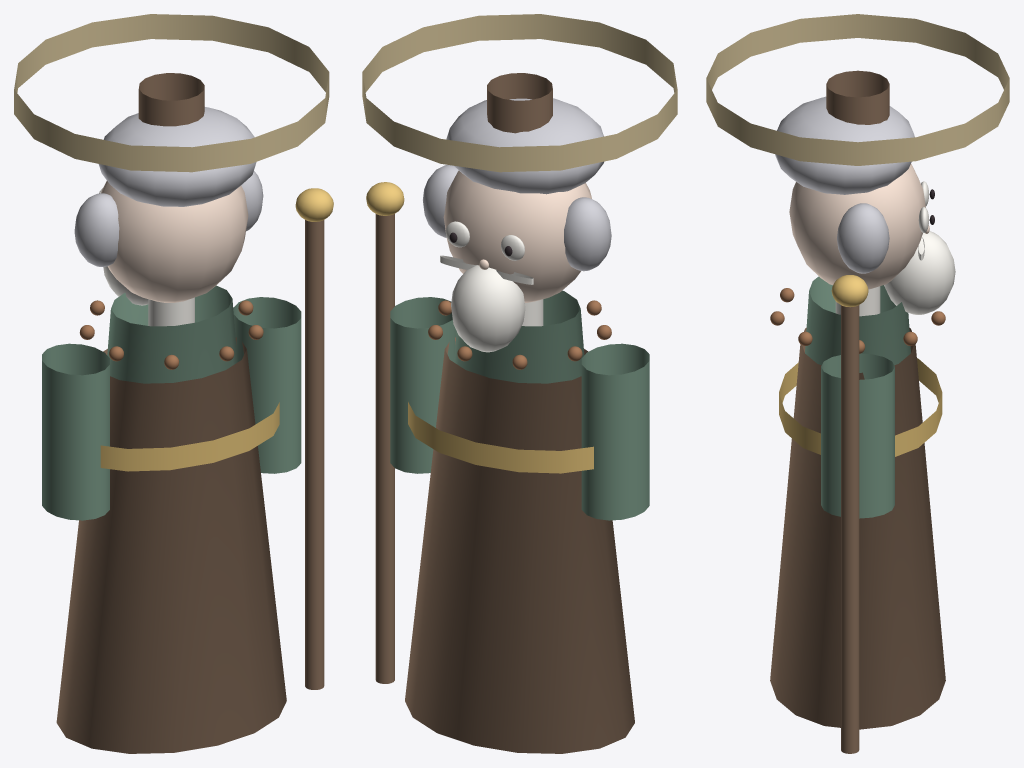
File: genzo.gltf
3 views of the same model, side by side, from view 1: azimuth 30°, elevation 25°; view 2: azimuth 150°, elevation 25°; view 3: azimuth 270°, elevation 25° (orthographic). The views are drawn at different scales.
Bounding box in the file's own units: 1.22 × 2.54 × 1.15.
